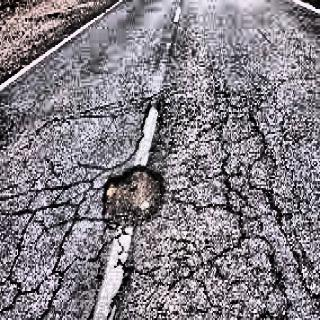alligator-crack: (198, 104, 284, 310), (7, 141, 82, 300), (92, 238, 193, 320)
pothole: (96, 166, 165, 233)
